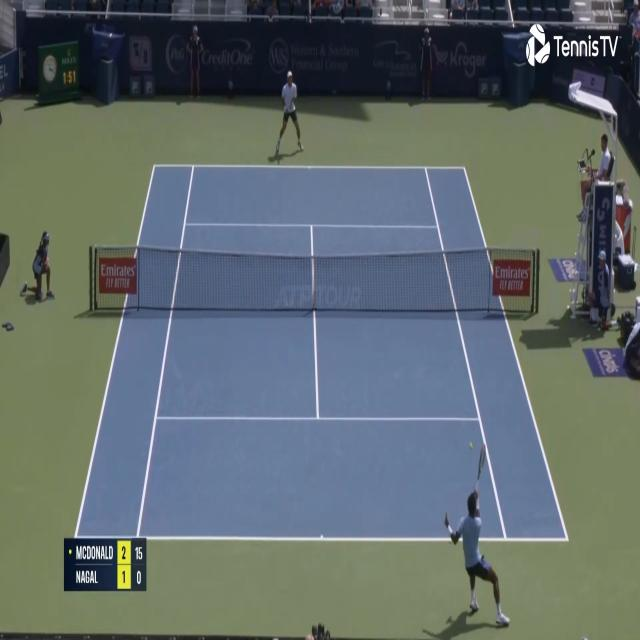tennis-player: (441, 440, 512, 632), (274, 66, 305, 158)
